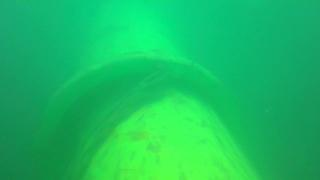pipe: (39, 1, 259, 180)
